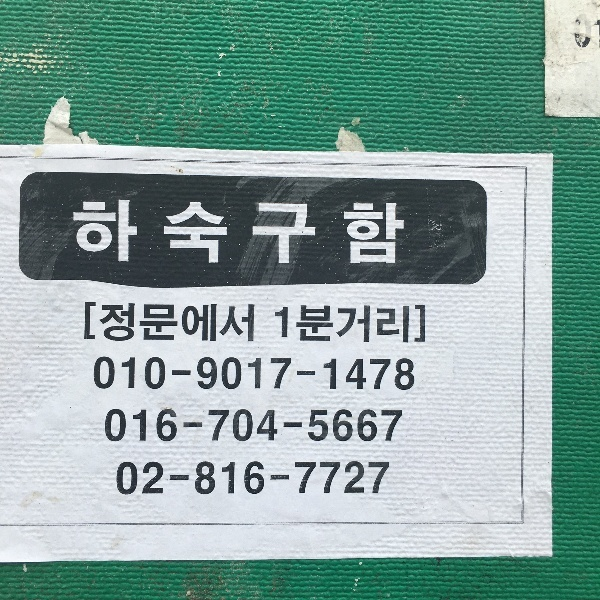text: (81, 197, 96, 270), (97, 197, 112, 270), (113, 197, 128, 270), (129, 197, 144, 270), (145, 197, 160, 270), (161, 197, 176, 270), (177, 197, 192, 270), (193, 197, 208, 270), (209, 197, 224, 270), (225, 197, 240, 270), (241, 197, 256, 270), (257, 197, 272, 270), (273, 197, 288, 270), (289, 197, 304, 270), (305, 197, 320, 270), (321, 197, 336, 270), (337, 197, 352, 270), (353, 197, 368, 270), (369, 197, 384, 270), (385, 197, 400, 270), (401, 354, 417, 395), (97, 301, 112, 344), (113, 301, 128, 344), (129, 301, 144, 344), (145, 301, 160, 344), (161, 301, 176, 344), (177, 301, 192, 344), (193, 301, 208, 344), (209, 301, 224, 344), (225, 301, 240, 344), (241, 301, 256, 344), (97, 354, 112, 395), (113, 354, 128, 395), (129, 354, 144, 395), (145, 354, 160, 395), (161, 354, 176, 395), (177, 354, 192, 395), (193, 354, 208, 395), (209, 354, 224, 395), (225, 354, 240, 395), (241, 354, 256, 395), (257, 354, 272, 395), (273, 354, 288, 395), (289, 354, 304, 395), (305, 354, 320, 395), (321, 354, 336, 395), (337, 354, 352, 395), (353, 354, 368, 395), (369, 354, 384, 395), (385, 354, 400, 395), (289, 304, 304, 345), (305, 304, 320, 345), (321, 304, 336, 345), (337, 304, 352, 345), (353, 304, 368, 345), (369, 304, 384, 345), (385, 304, 400, 345), (401, 304, 416, 345), (129, 459, 144, 498), (145, 459, 160, 498), (161, 459, 176, 498), (177, 459, 192, 498), (193, 459, 208, 498), (209, 459, 224, 498), (225, 459, 240, 498), (241, 459, 256, 498), (257, 459, 272, 498), (273, 459, 288, 498), (289, 459, 304, 498), (305, 459, 320, 498), (321, 459, 336, 498), (337, 459, 352, 498), (353, 459, 368, 498), (369, 459, 384, 498), (113, 408, 128, 444), (129, 408, 144, 444), (145, 408, 160, 444), (161, 408, 176, 444), (177, 408, 192, 444), (193, 408, 208, 444), (209, 408, 224, 444), (225, 408, 240, 444), (241, 408, 256, 444), (257, 408, 272, 444), (273, 408, 288, 444), (289, 408, 304, 444), (305, 408, 320, 444), (321, 408, 336, 444), (337, 408, 352, 444), (353, 408, 368, 444), (369, 408, 384, 444), (385, 408, 400, 444), (275, 304, 288, 345), (73, 197, 80, 270), (85, 301, 96, 344), (401, 197, 407, 270), (117, 459, 128, 498), (417, 304, 427, 345), (385, 459, 392, 498), (105, 408, 112, 444), (401, 408, 405, 444), (94, 354, 96, 395)
